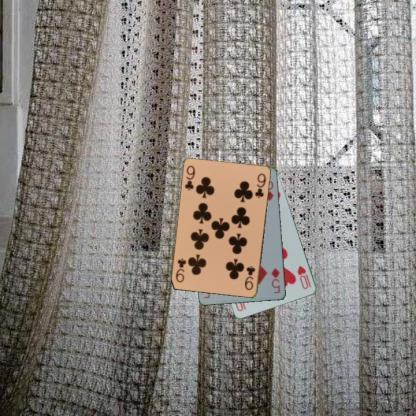10h: (294, 263, 312, 291)
5d: (268, 266, 282, 295)
9c: (242, 263, 257, 292), (182, 163, 196, 192)
